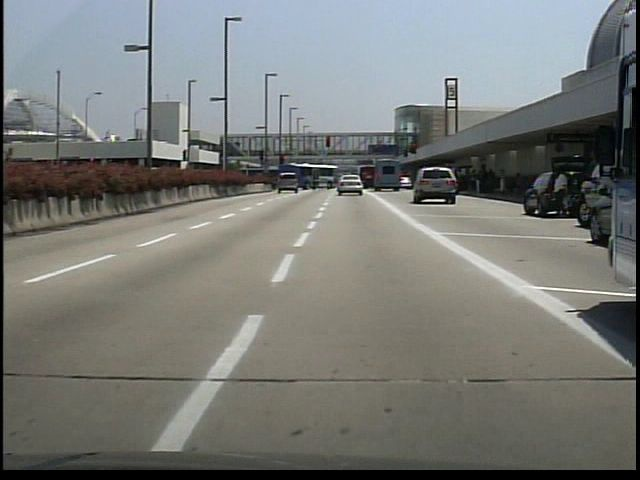person: (549, 168, 570, 218)
